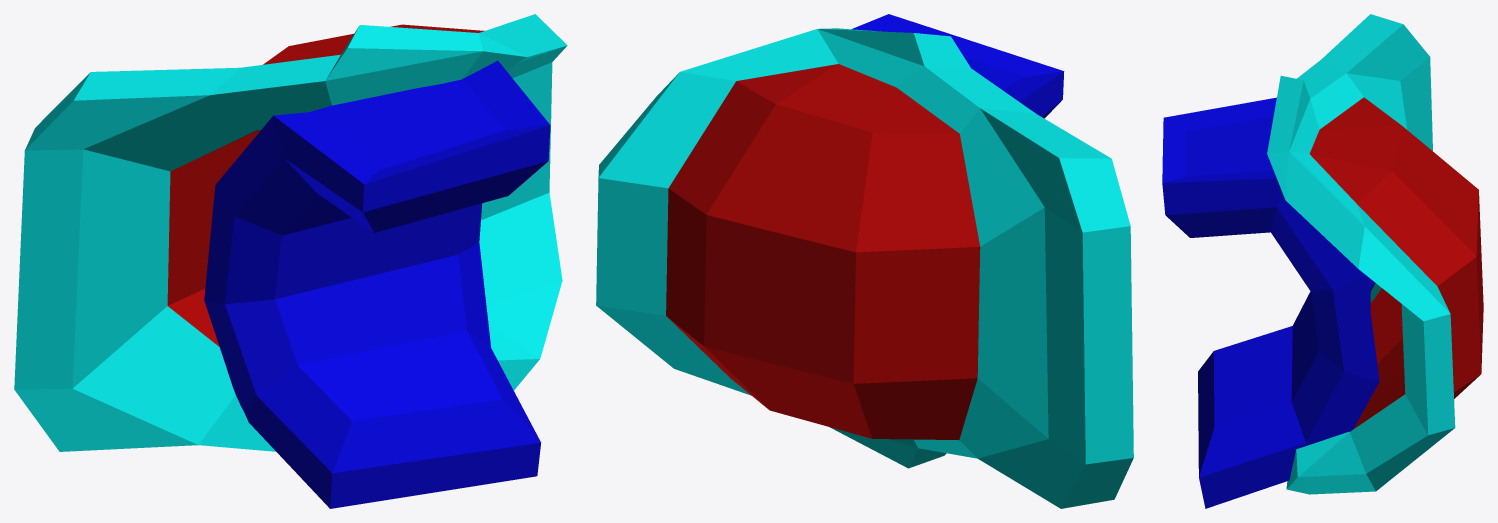
File: Chr_ElbowAttachLeft_Static_05.fbx
3 views of the same model, side by side, from view 1: azimuth 30°, elevation 25°; view 2: azimuth 150°, elevation 25°; view 3: azimuth 270°, elevation 25° (orthographic). The views are drawn at different scales.
Visible parts, largest first — view 1: Chr_ElbowAttachLeft_05; view 2: Chr_ElbowAttachLeft_05; view 3: Chr_ElbowAttachLeft_05.
Part boxes in pixels (x1,y1,x2,y2): Chr_ElbowAttachLeft_05: [14, 14, 567, 508]; Chr_ElbowAttachLeft_05: [596, 14, 1133, 508]; Chr_ElbowAttachLeft_05: [1162, 14, 1483, 508].
Size of the model in its own units: 23.98 by 18.92 by 14.06.
